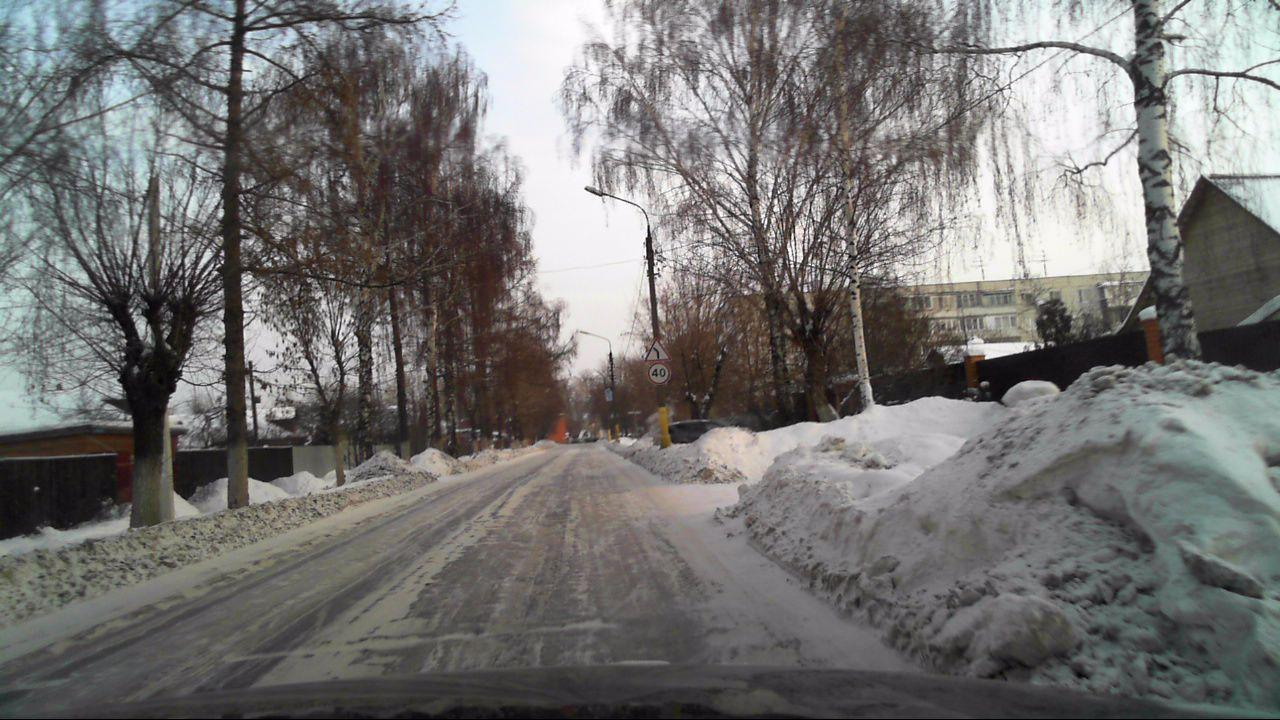1_11_2: (644, 337, 669, 362)
3_24: (648, 361, 672, 384)
